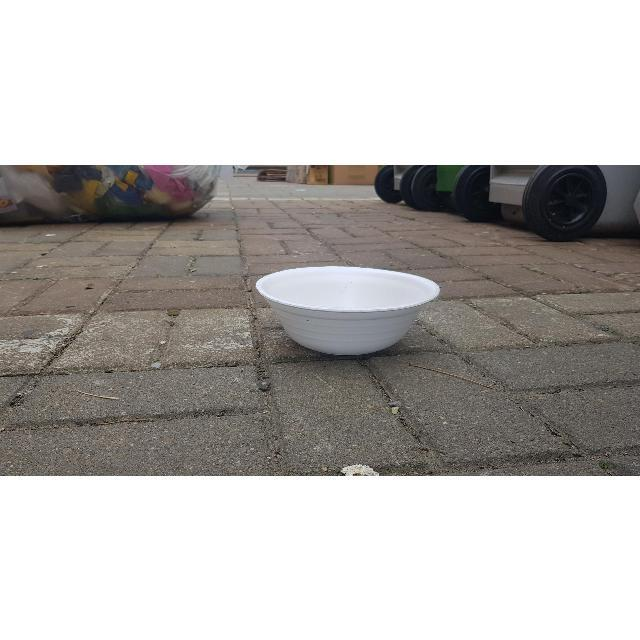Recipiente plastico: (258, 266, 438, 354)
